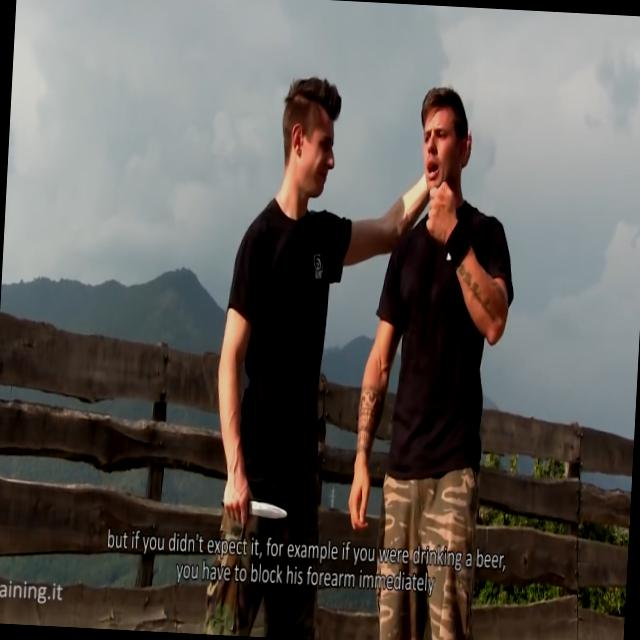knife: (217, 481, 297, 535)
